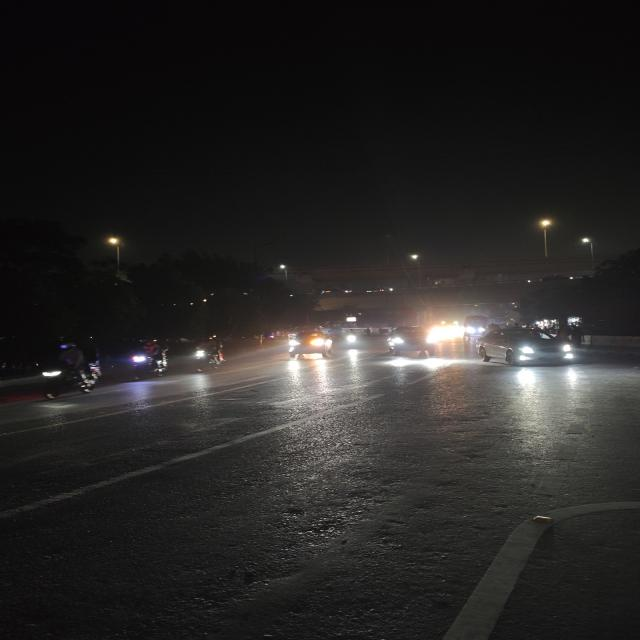bus: (463, 310, 489, 337)
car: (471, 322, 576, 370), (282, 328, 337, 362), (387, 325, 439, 358)
motorcycle: (35, 340, 105, 397), (118, 335, 172, 380), (188, 334, 230, 376)
